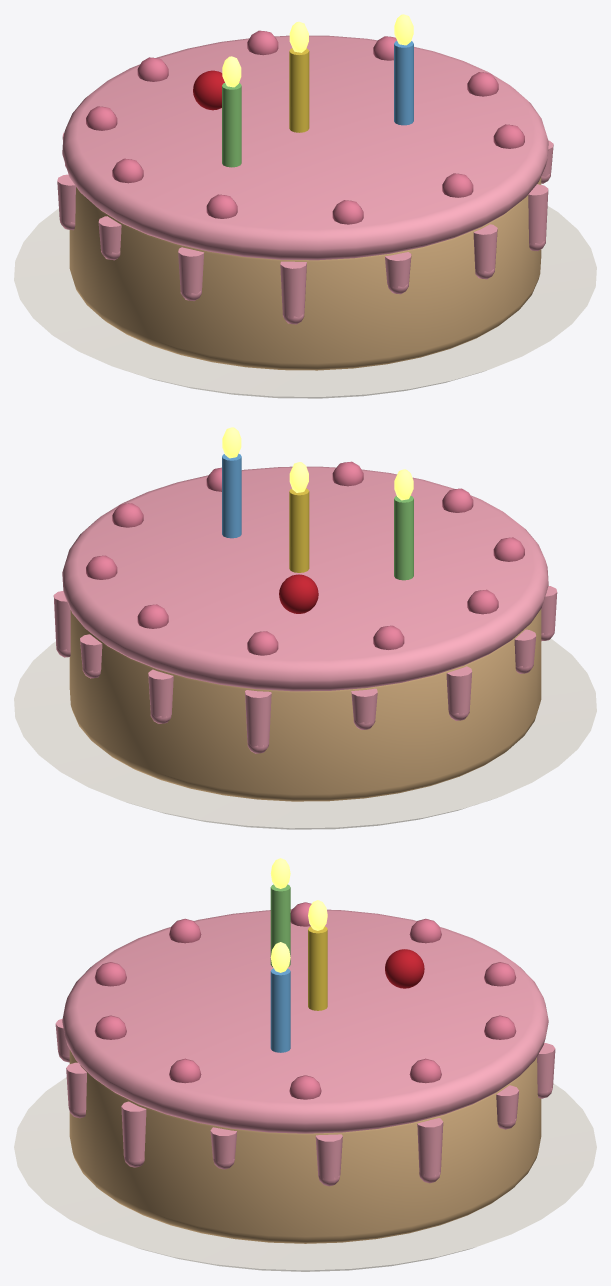
Rendered from piece_cake.fbx.
The picture shows the model from 3 angles, top to bottom: view 1: azimuth 30°, elevation 25°; view 2: azimuth 150°, elevation 25°; view 3: azimuth 270°, elevation 25°; orthographic projection.
Visible parts, largest first — view 1: piece_cake; view 2: piece_cake; view 3: piece_cake.
Boxes of the visible parts, x1=… form: piece_cake: x1=14, y1=14, x2=596, y2=398; piece_cake: x1=14, y1=427, x2=596, y2=829; piece_cake: x1=14, y1=858, x2=596, y2=1271.
Size of the model in its own units: 0.47 by 0.236 by 0.47.
